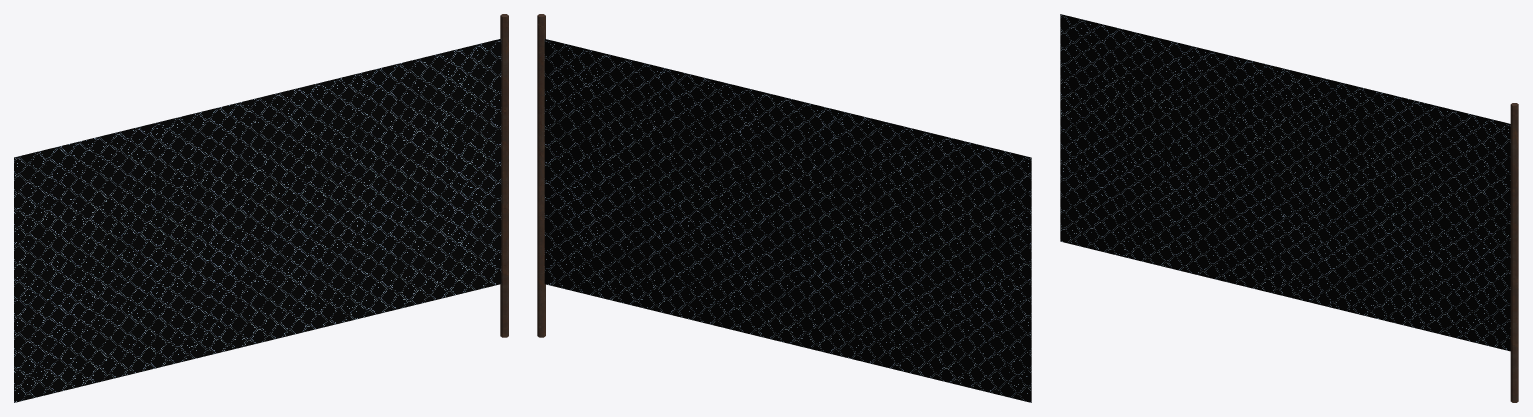
The model's file is metalfence_one_side_no_topbar.glb.
3 renders of one model, left to right at view 1: azimuth 30°, elevation 25°; view 2: azimuth 150°, elevation 25°; view 3: azimuth 330°, elevation 25°, orthographic. The views are drawn at different scales.
Parts seen in each view (by area): view 1: metalfence_one_side_no_topbar; view 2: metalfence_one_side_no_topbar; view 3: metalfence_one_side_no_topbar.
Boxes of the visible parts, x1,y1,x2,y2 form: metalfence_one_side_no_topbar: (14,14,508,402); metalfence_one_side_no_topbar: (537,14,1031,402); metalfence_one_side_no_topbar: (1060,14,1518,402).
Size of the model in its own units: 2.69 by 1.67 by 0.04.
Materials: 2 (2 with a texture image).
